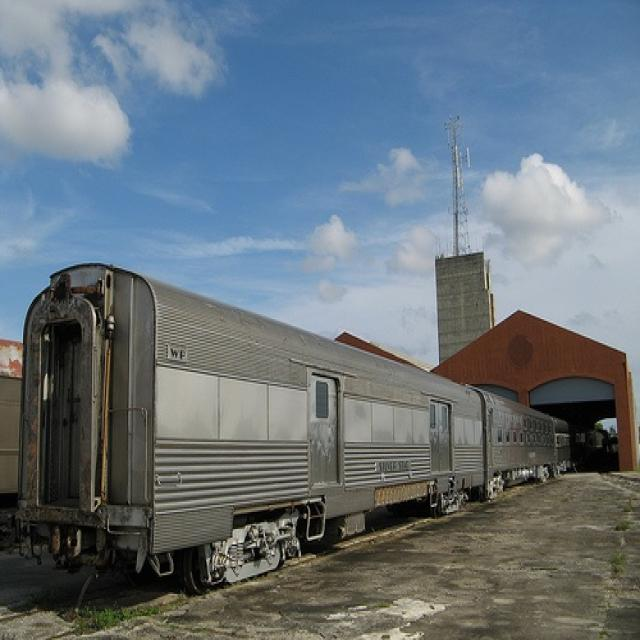train: (19, 263, 609, 587)
